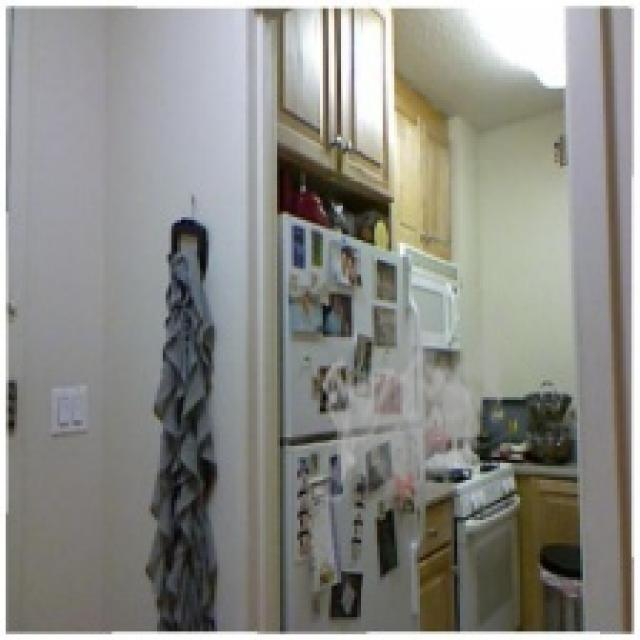smoke: (317, 272, 517, 512)
